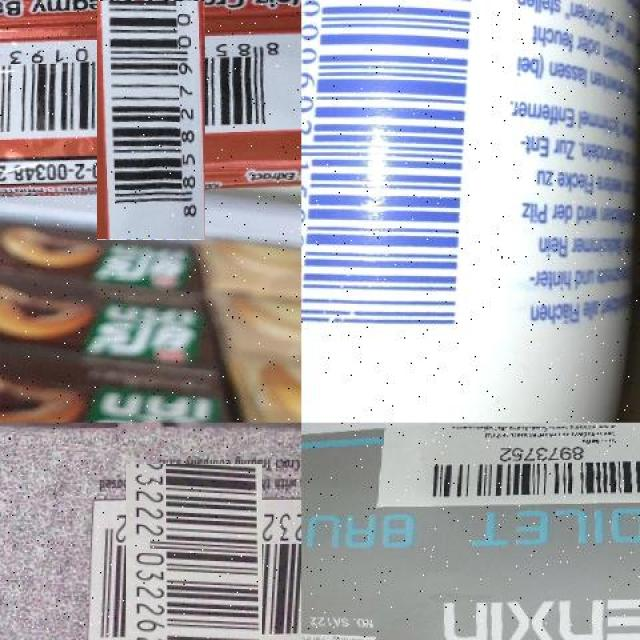Barcode: (301, 0, 491, 360), (49, 0, 254, 192), (106, 484, 282, 640), (419, 450, 640, 504)
